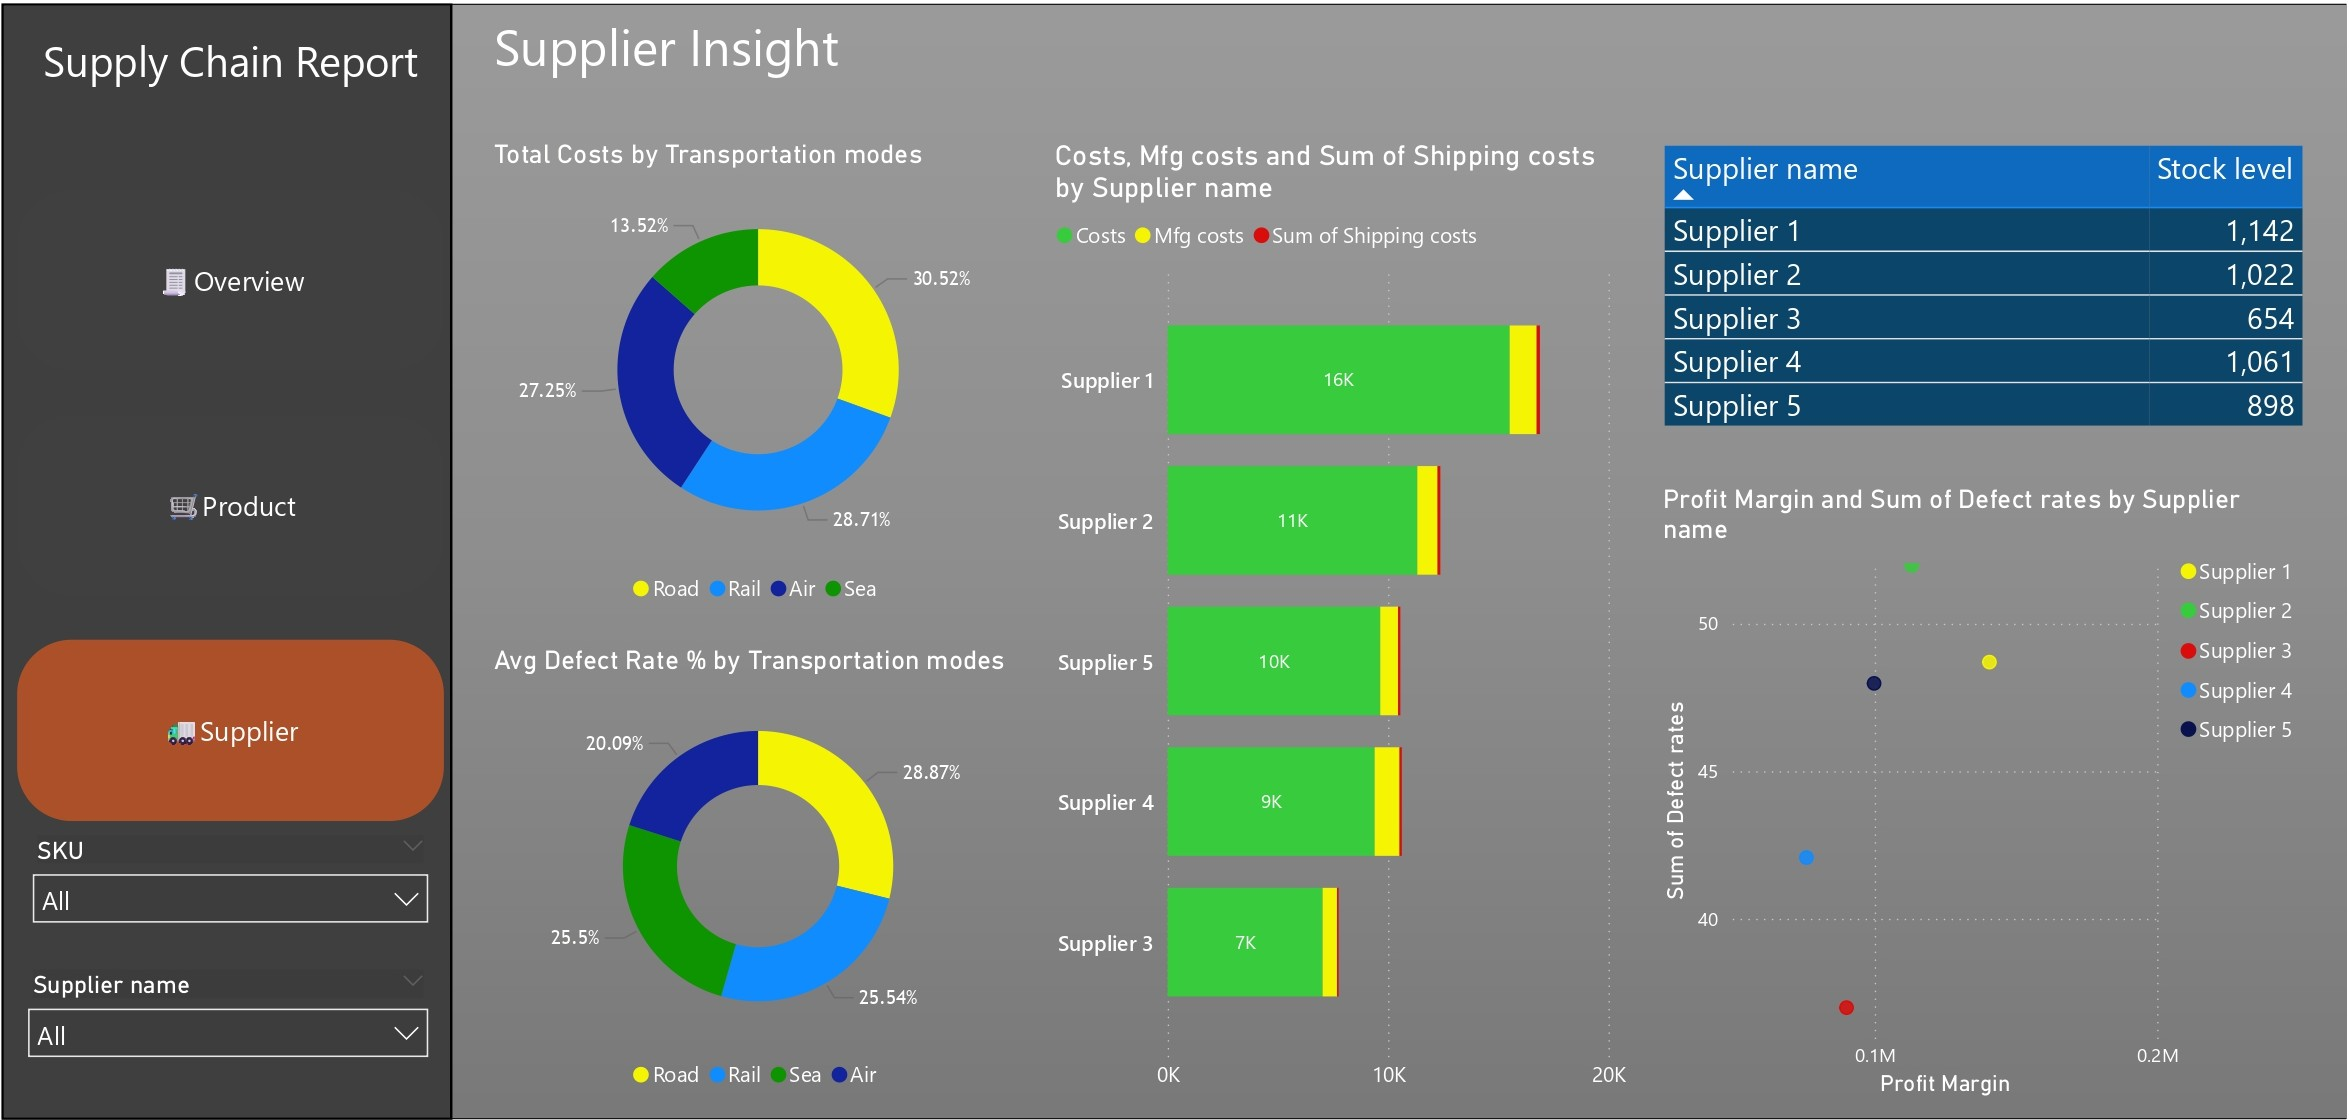

The dashboard page shown, as its layout file describes it:
{"tool":"powerbi","page":{"name":"🚛Supplier","canvas":[1500,725],"ordinal":2},"visuals":[{"type":"donutChart","fields":{"Y":["_Measures.Total Costs"],"Category":["supply_chain_data (2).Transportation modes"]},"box":[310.3,85.8,347.5,307.4],"z":0},{"type":"pageNavigator","box":[9.8,118.6,272.9,405],"z":0,"group":"g1"},{"type":"donutChart","fields":{"Category":["supply_chain_data (2).Transportation modes"],"Y":["_Measures.Avg Defect Rate %"]},"box":[310.3,410.4,347.5,293.1],"z":1000},{"type":"slicer","fields":{"Values":["supply_chain_data (2).SKU"]},"box":[9.6,527.3,273.2,78.1],"z":1000,"group":"g1"},{"type":"barChart","fields":{"Category":["supply_chain_data (2).Supplier name"],"Y":["Sum(supply_chain_data (2).Costs)","Sum(supply_chain_data (2).Mfg costs)","Sum(supply_chain_data (2).Shipping costs)"]},"box":[669.2,85.8,376.1,617.7],"z":2000},{"type":"slicer","fields":{"Values":["supply_chain_data (2).Supplier name"]},"box":[7.1,612.8,276,90.8],"z":2000,"group":"g1"},{"type":"textbox","box":[9.6,12.9,273.2,61.1],"z":3000,"group":"g1"},{"type":"tableEx","fields":{"Values":["supply_chain_data (2).Supplier name","_Measures.Stock level"]},"box":[1058.2,85.8,423.3,205.9],"z":3000},{"type":"scatterChart","fields":{"X":["Sum(supply_chain_data (2).Profit Margin)"],"Y":["Sum(supply_chain_data (2).Defect rates)"],"Series":["supply_chain_data (2).Supplier name"]},"box":[1058.2,307.4,421.8,396.1],"z":4000},{"type":"textbox","box":[310.3,0,286,60.1],"z":5000},{"type":"group","id":"g1","title":"Group 1","box":[7.1,12.9,276,690.7],"z":6000}]}

Visuals, with their boxes on the page's 1500x725 design canvas (x1, y1, x2, y2). These are canvas units, not pixel positions in the 2349x1120 screenshot, which may show the page scaled, cropped or inside an application window:
donutChart - _Measures.Total Costs x supply_chain_data (2).Transportation modes: rect(310, 86, 658, 393)
pageNavigator: rect(10, 119, 283, 524)
donutChart - supply_chain_data (2).Transportation modes x _Measures.Avg Defect Rate %: rect(310, 410, 658, 704)
slicer - supply_chain_data (2).SKU: rect(10, 527, 283, 605)
barChart - supply_chain_data (2).Supplier name x Sum(supply_chain_data (2).Costs): rect(669, 86, 1045, 704)
slicer - supply_chain_data (2).Supplier name: rect(7, 613, 283, 704)
textbox: rect(10, 13, 283, 74)
tableEx - supply_chain_data (2).Supplier name x _Measures.Stock level: rect(1058, 86, 1482, 292)
scatterChart - Sum(supply_chain_data (2).Profit Margin) x Sum(supply_chain_data (2).Defect rates): rect(1058, 307, 1480, 704)
textbox: rect(310, 0, 596, 60)
"Group 1" group: rect(7, 13, 283, 704)
